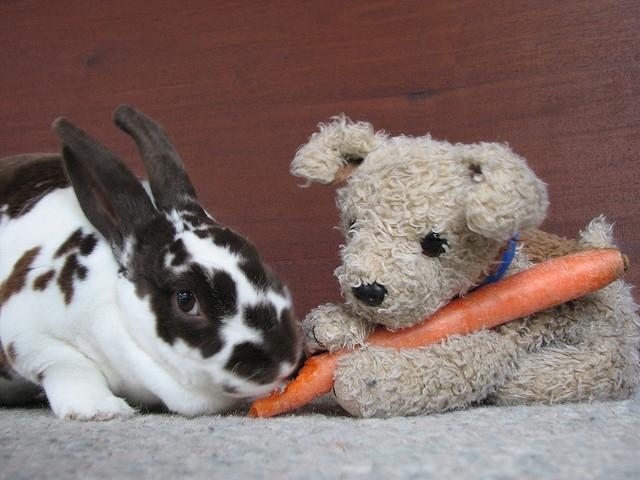carrot: (246, 248, 629, 420)
